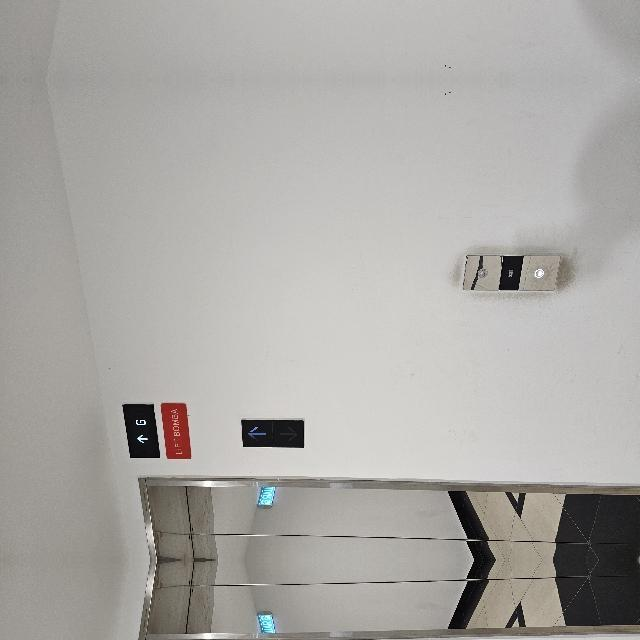door: (1, 219, 82, 640), (1, 401, 82, 640)
